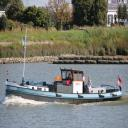tugboat: (6, 66, 125, 108)
